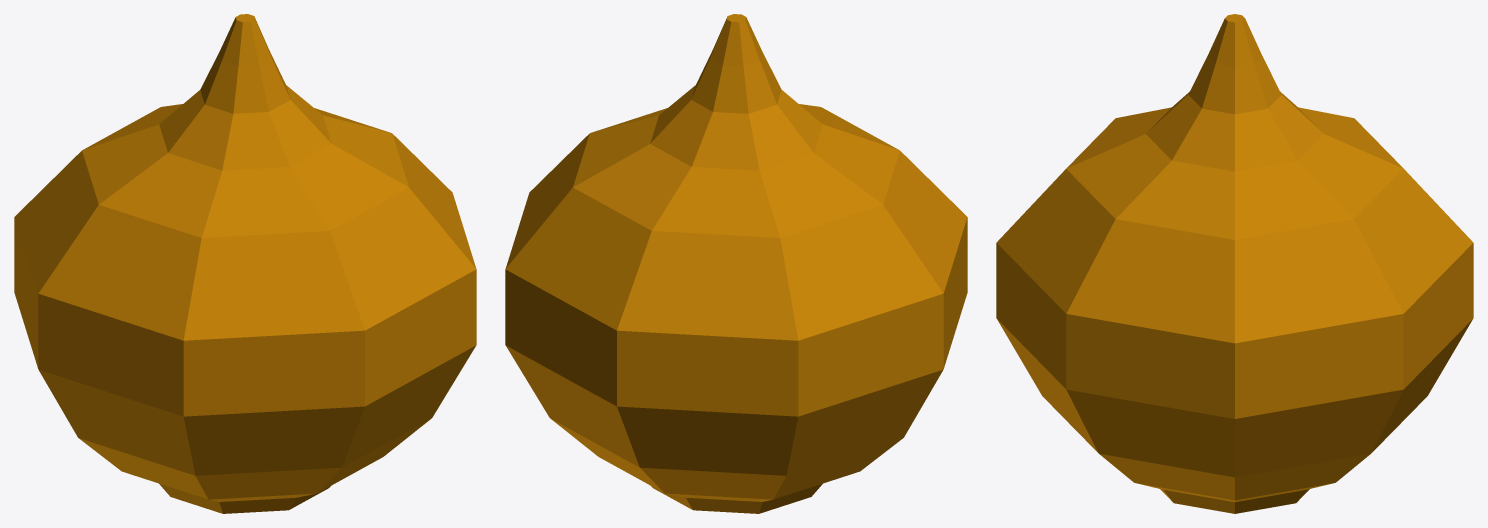
The model's file is onion03.obj.
The picture shows the model from 3 angles, left to right: view 1: azimuth 30°, elevation 25°; view 2: azimuth 150°, elevation 25°; view 3: azimuth 270°, elevation 25°; orthographic projection.
Visible parts, largest first — view 1: Cylinder.001_Cylinder.002; view 2: Cylinder.001_Cylinder.002; view 3: Cylinder.001_Cylinder.002.
Boxes of the visible parts, <box> form: Cylinder.001_Cylinder.002: <box>14,14,476,513</box>; Cylinder.001_Cylinder.002: <box>505,14,967,513</box>; Cylinder.001_Cylinder.002: <box>996,14,1473,513</box>.
Size of the model in its own units: 0.0553 by 0.0588 by 0.0553.
Materials: 1 (1 with a texture image).
